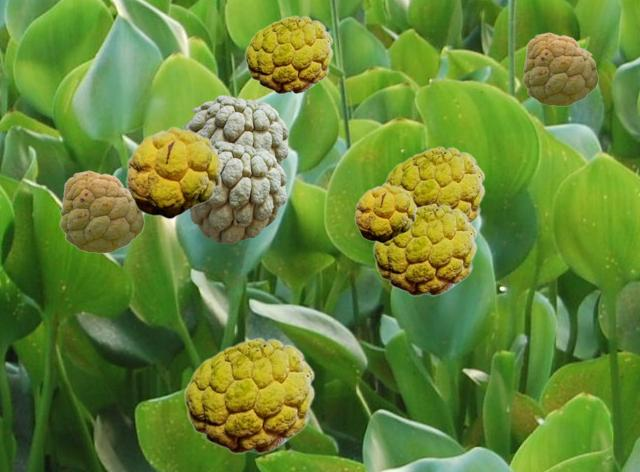atis: (183, 337, 314, 453), (189, 141, 285, 242), (372, 203, 476, 295), (125, 126, 222, 218), (383, 146, 484, 223), (183, 95, 287, 164), (59, 170, 143, 252), (244, 15, 332, 93), (522, 32, 597, 105), (354, 183, 416, 242)
